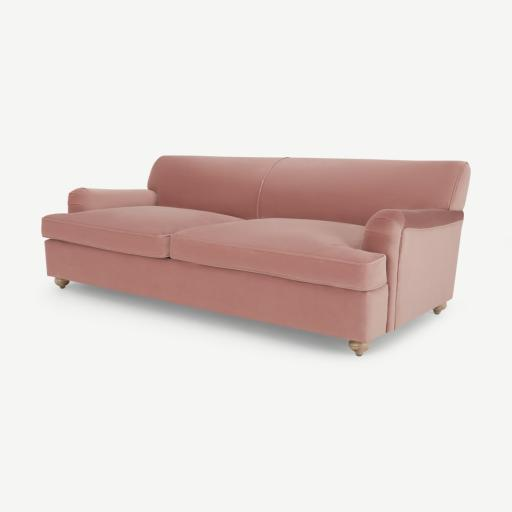back_cushion: (148, 156, 469, 225)
base: (45, 240, 387, 341)
left_arm: (364, 212, 462, 331)
legs: (349, 341, 370, 356), (54, 277, 70, 289), (434, 303, 445, 314)
right_arm: (68, 188, 157, 213)
seat_cushion: (42, 206, 384, 290)
two-seater: (0, 0, 511, 512)
